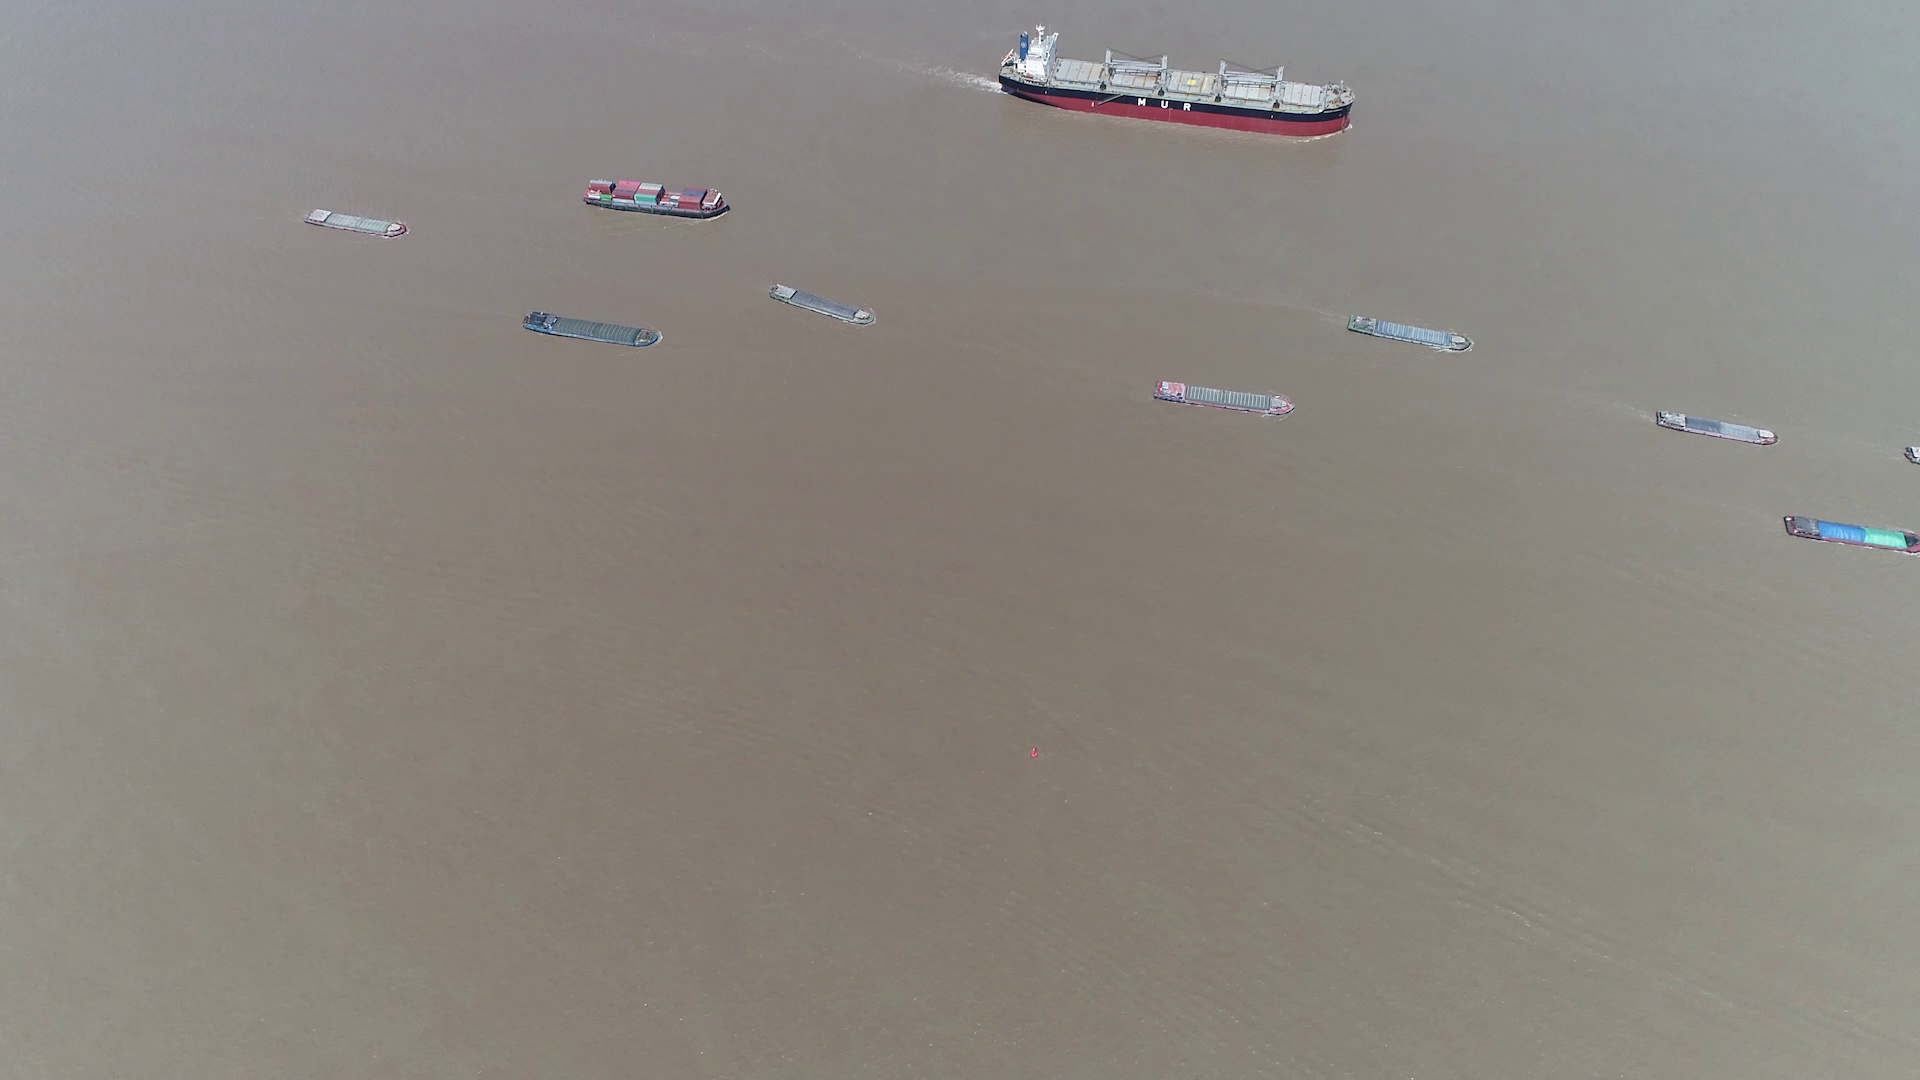ship: (1000, 30, 1356, 136), (522, 310, 663, 349), (1783, 513, 1920, 553), (1153, 378, 1294, 417), (585, 179, 727, 218), (1346, 313, 1472, 353), (1652, 407, 1776, 446), (770, 286, 877, 328), (303, 207, 406, 237)
